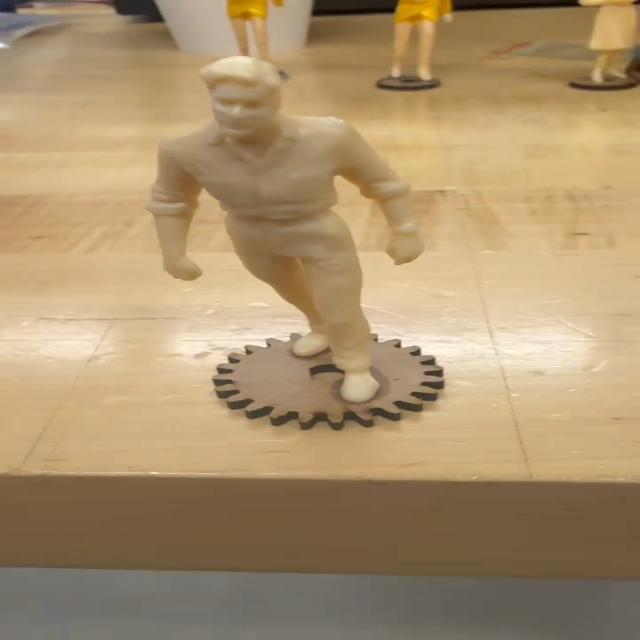Unauthorized: (133, 55, 440, 407)
